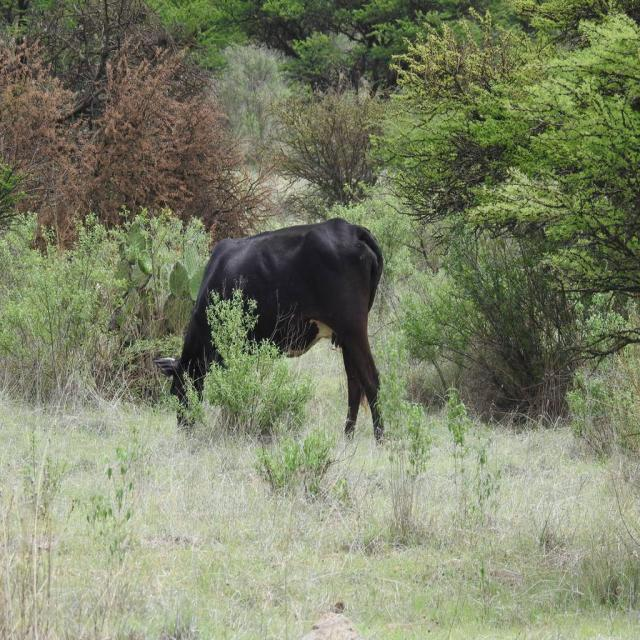cow: (158, 219, 384, 442)
